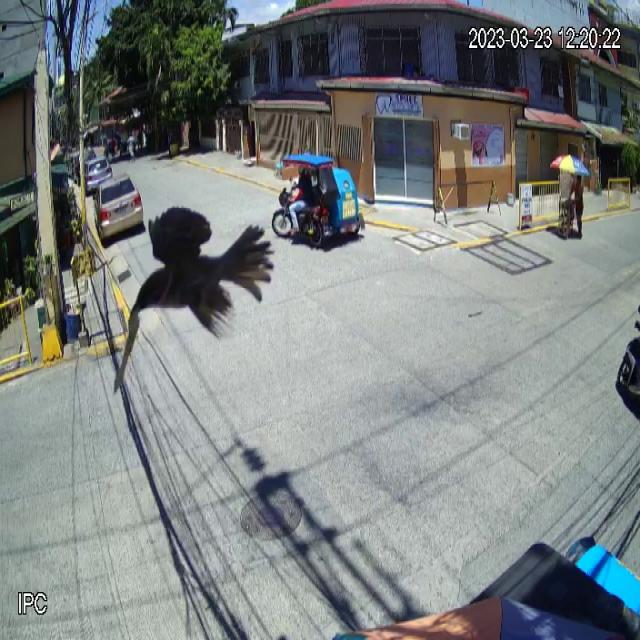Tricycle: (272, 154, 366, 250)
